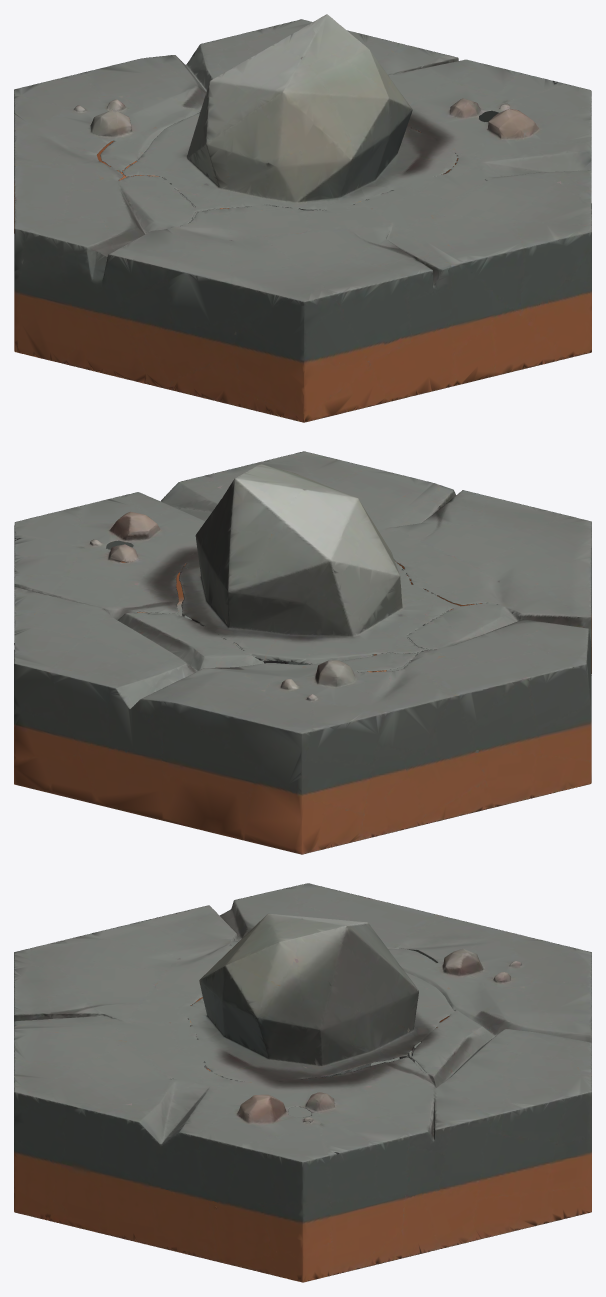
The model's file is rocktile_lv1.glb.
3 renders of one model, top to bottom at view 1: azimuth 30°, elevation 25°; view 2: azimuth 150°, elevation 25°; view 3: azimuth 270°, elevation 25°, orthographic.
Size of the model in its own units: 1.9 by 0.755 by 1.65.
Materials: 1 (1 with a texture image).
